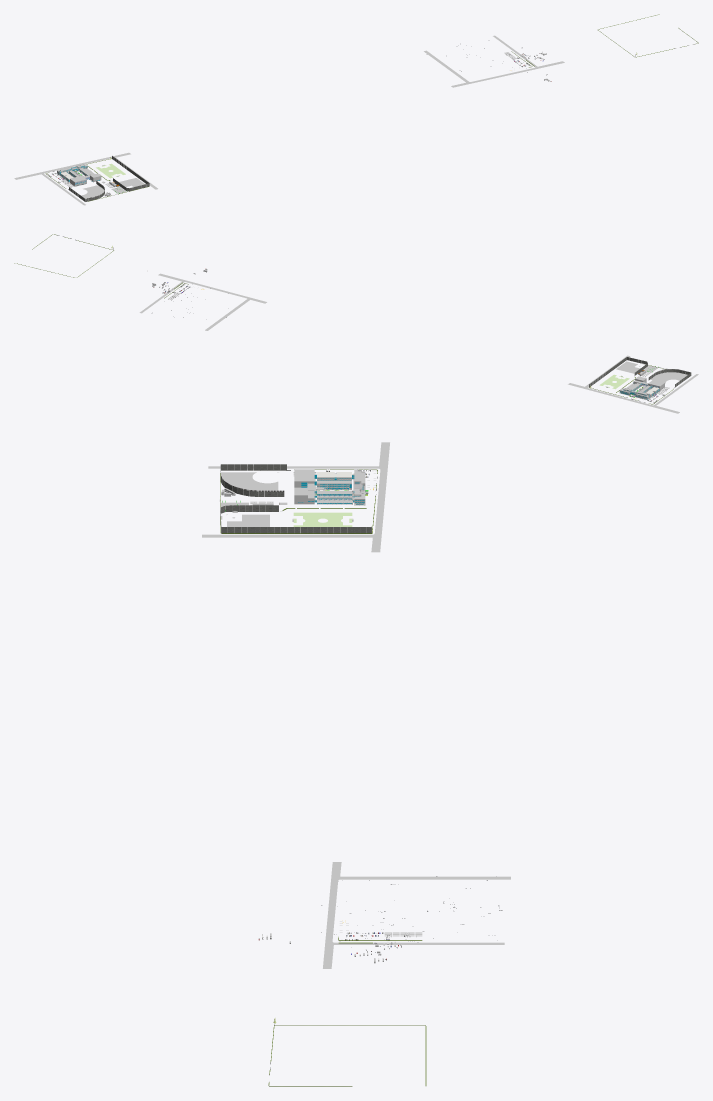
The model's file is school_outside.glb.
3 views of the same model, one above another, from view 1: azimuth 30°, elevation 25°; view 2: azimuth 150°, elevation 25°; view 3: azimuth 270°, elevation 25° (orthographic). The views are drawn at different scales.
Parts seen in each view (by area): view 1: school_outside; view 2: school_outside; view 3: school_outside.
Part boxes in pixels (box(x1,y1,x2,y2)): school_outside: box(14, 14, 698, 205); school_outside: box(14, 234, 698, 413); school_outside: box(202, 442, 510, 1086).
Size of the model in its own units: 2743 by 28.32 by 561.
Materials: 123 (23 with a texture image).
